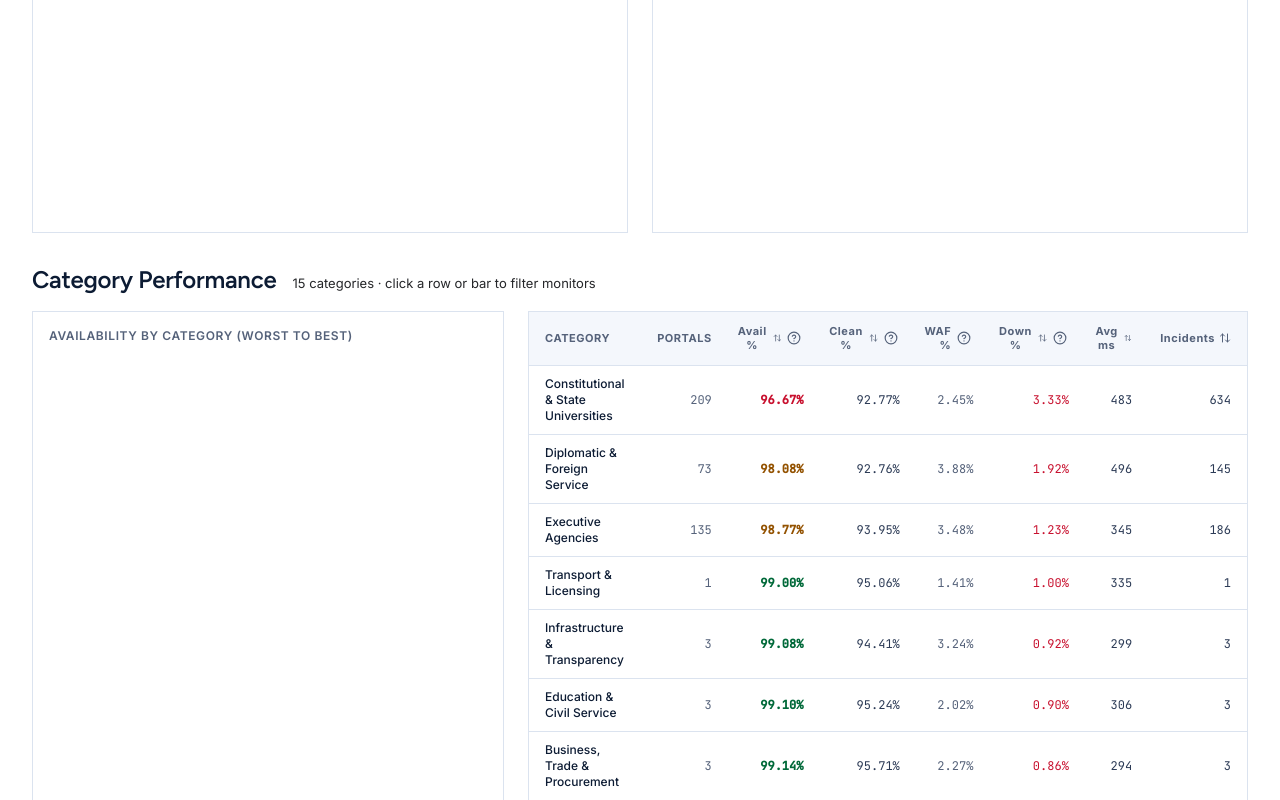
it: DashboardPage › filters the monitor leaderboard when clicking a category row
The width and height of the screenshot is (1280, 800).
(page scrolled)
Expected: the heading "Category Performance" is shown, [32, 265, 276, 295]
Click the row that starts with "Constitutional & State Universities" at [888, 400], box [529, 366, 1247, 435]
(page scrolled)
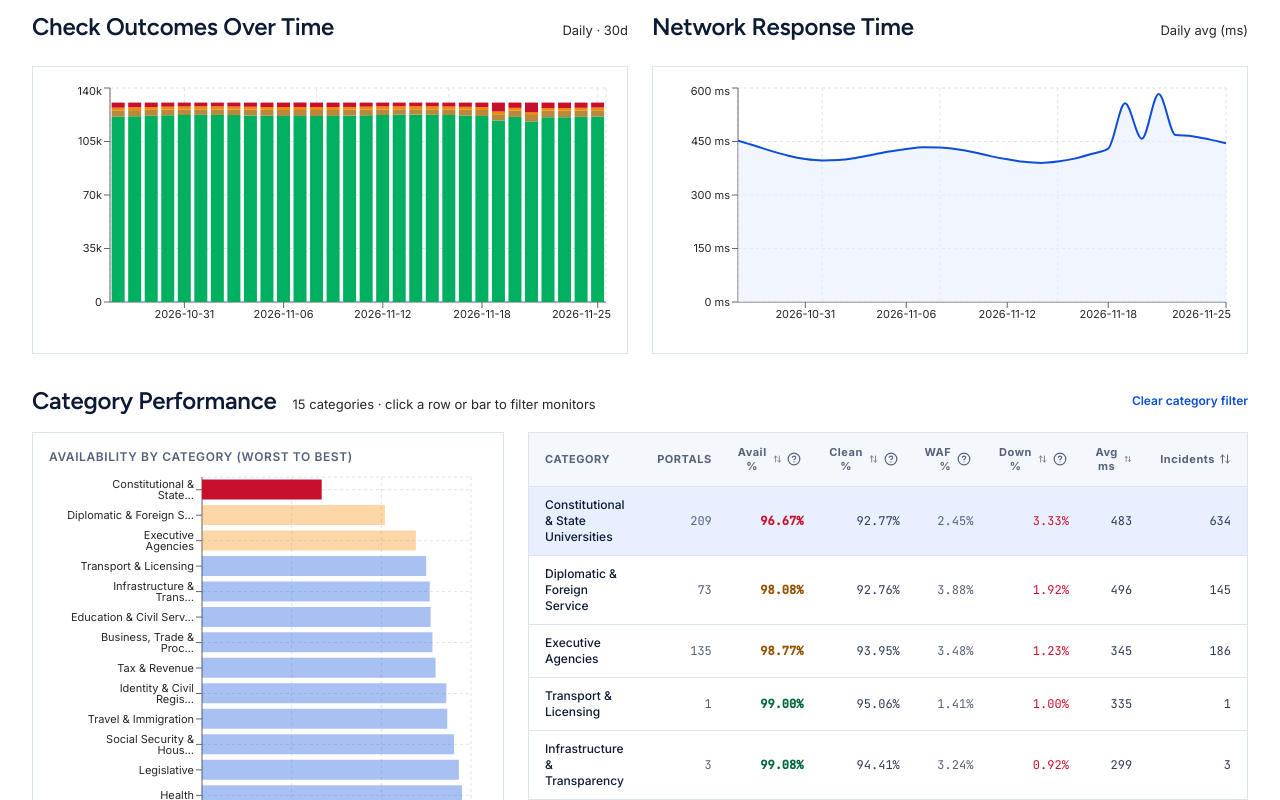
Result: the button "Clear category filter" is shown at [1132, 393, 1248, 409]
